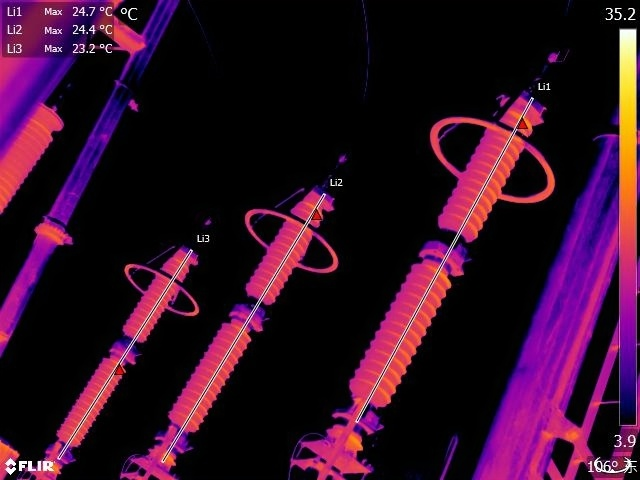lightning arrester: (314, 67, 566, 458), (149, 161, 352, 461), (47, 218, 212, 466)
potential transformer: (1, 84, 73, 210)
